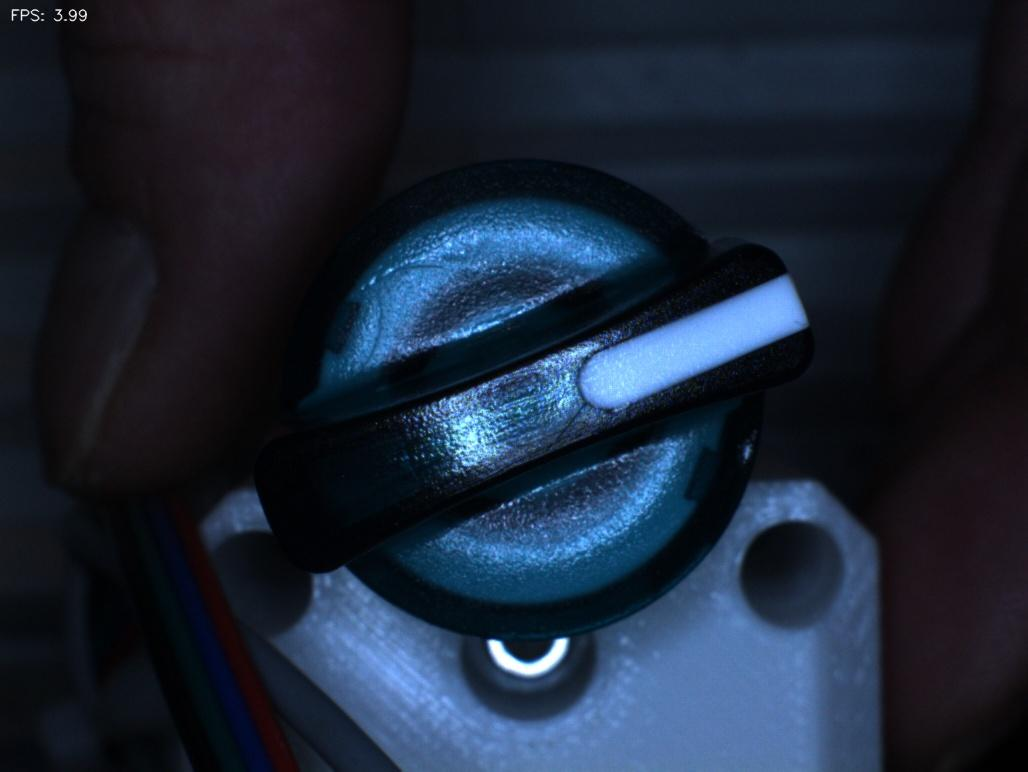Choc: (701, 406, 793, 496)
